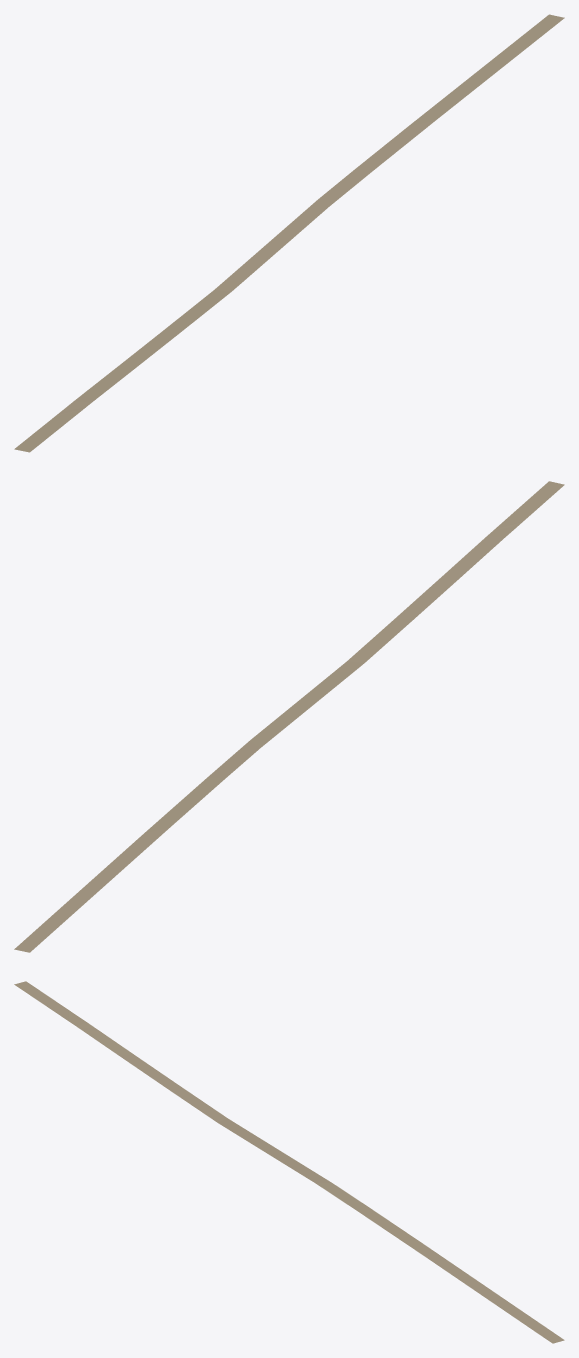
The model's file is farm_6_12_track.glb.
The picture shows the model from 3 angles, top to bottom: view 1: azimuth 30°, elevation 25°; view 2: azimuth 210°, elevation 25°; view 3: azimuth 270°, elevation 25°; orthographic projection. The views are drawn at different scales.
Parts seen in each view (by area): view 1: geometry_0; view 2: geometry_0; view 3: geometry_0.
Boxes of the visible parts, bbox=[...] form: geometry_0: bbox=[14, 14, 564, 452]; geometry_0: bbox=[14, 481, 564, 952]; geometry_0: bbox=[14, 981, 564, 1343].
Size of the model in its own units: 186 by 3.43 by 124.
